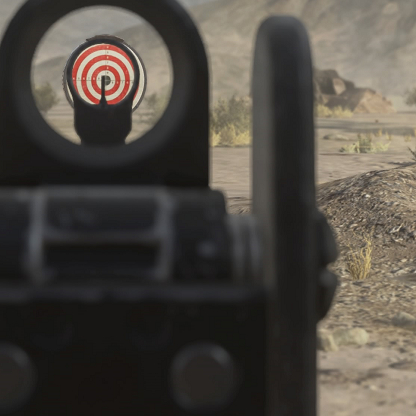target: (63, 37, 146, 105)
